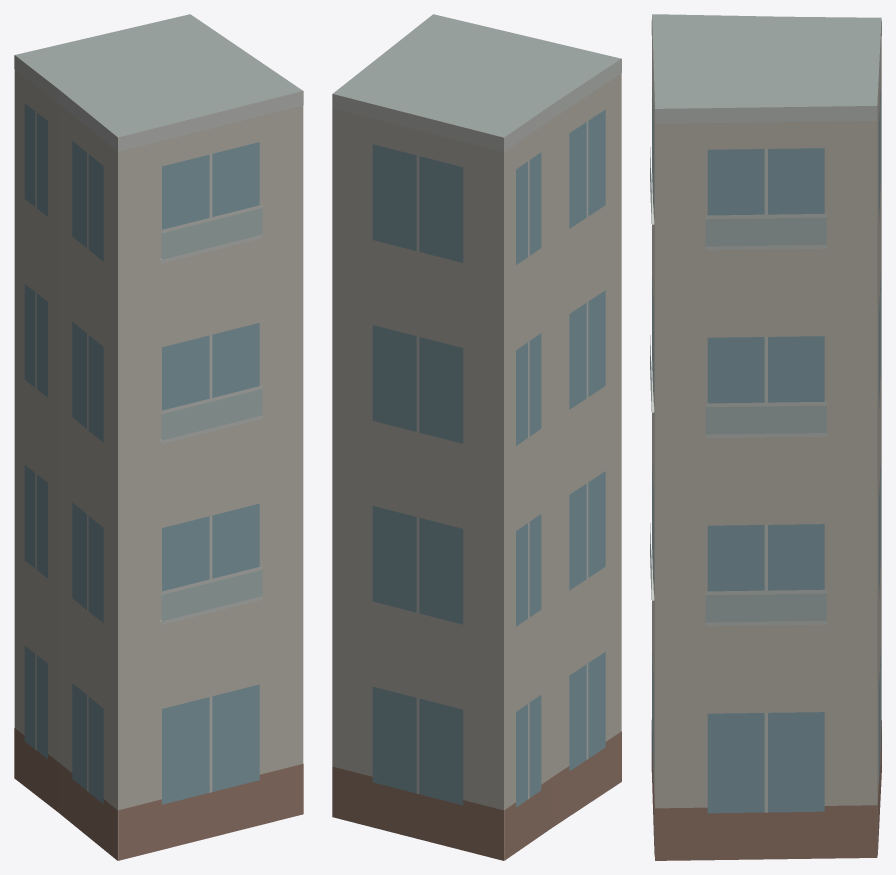
File: survey-upis-32468872.glb
3 views of the same model, side by side, from view 1: azimuth 30°, elevation 25°; view 2: azimuth 150°, elevation 25°; view 3: azimuth 270°, elevation 25° (orthographic). The views are drawn at different scales.
Visible parts, largest first — view 1: survey-upis-32468872.tmp; view 2: survey-upis-32468872.tmp; view 3: survey-upis-32468872.tmp.
Part boxes in pixels (<box>): survey-upis-32468872.tmp: <box>14,14,303,860</box>; survey-upis-32468872.tmp: <box>332,14,621,860</box>; survey-upis-32468872.tmp: <box>650,14,881,860</box>.
Bounding box in the file's own units: 3.32 × 12.2 × 3.41.
